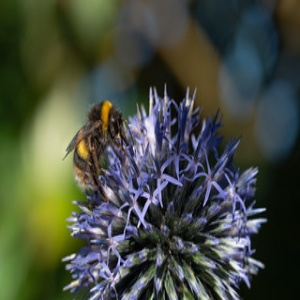bee: (62, 100, 129, 201)
